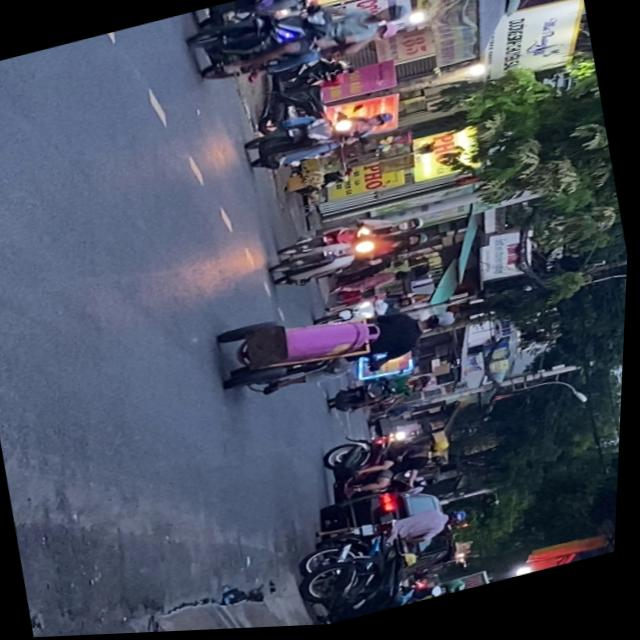helmet: (371, 2, 412, 30), (365, 112, 398, 133), (397, 217, 427, 238), (405, 234, 432, 252)
licenseplate: (225, 278, 468, 411), (179, 0, 419, 98), (239, 96, 405, 181), (264, 215, 436, 296), (184, 0, 393, 39)
motorcyclist: (419, 311, 461, 338)
